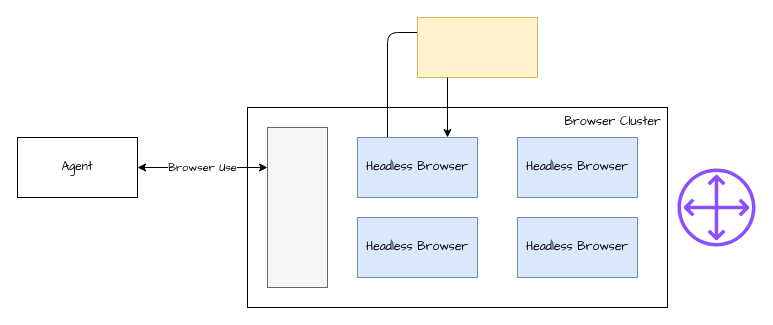
This 773x325 diagram has some shape labels left out. Each missing label, with the centre of its shape:
"capture resolver" belongs at (477,47).
"Gateway" belongs at (297,207).
"IP Proxy" belongs at (716,207).
